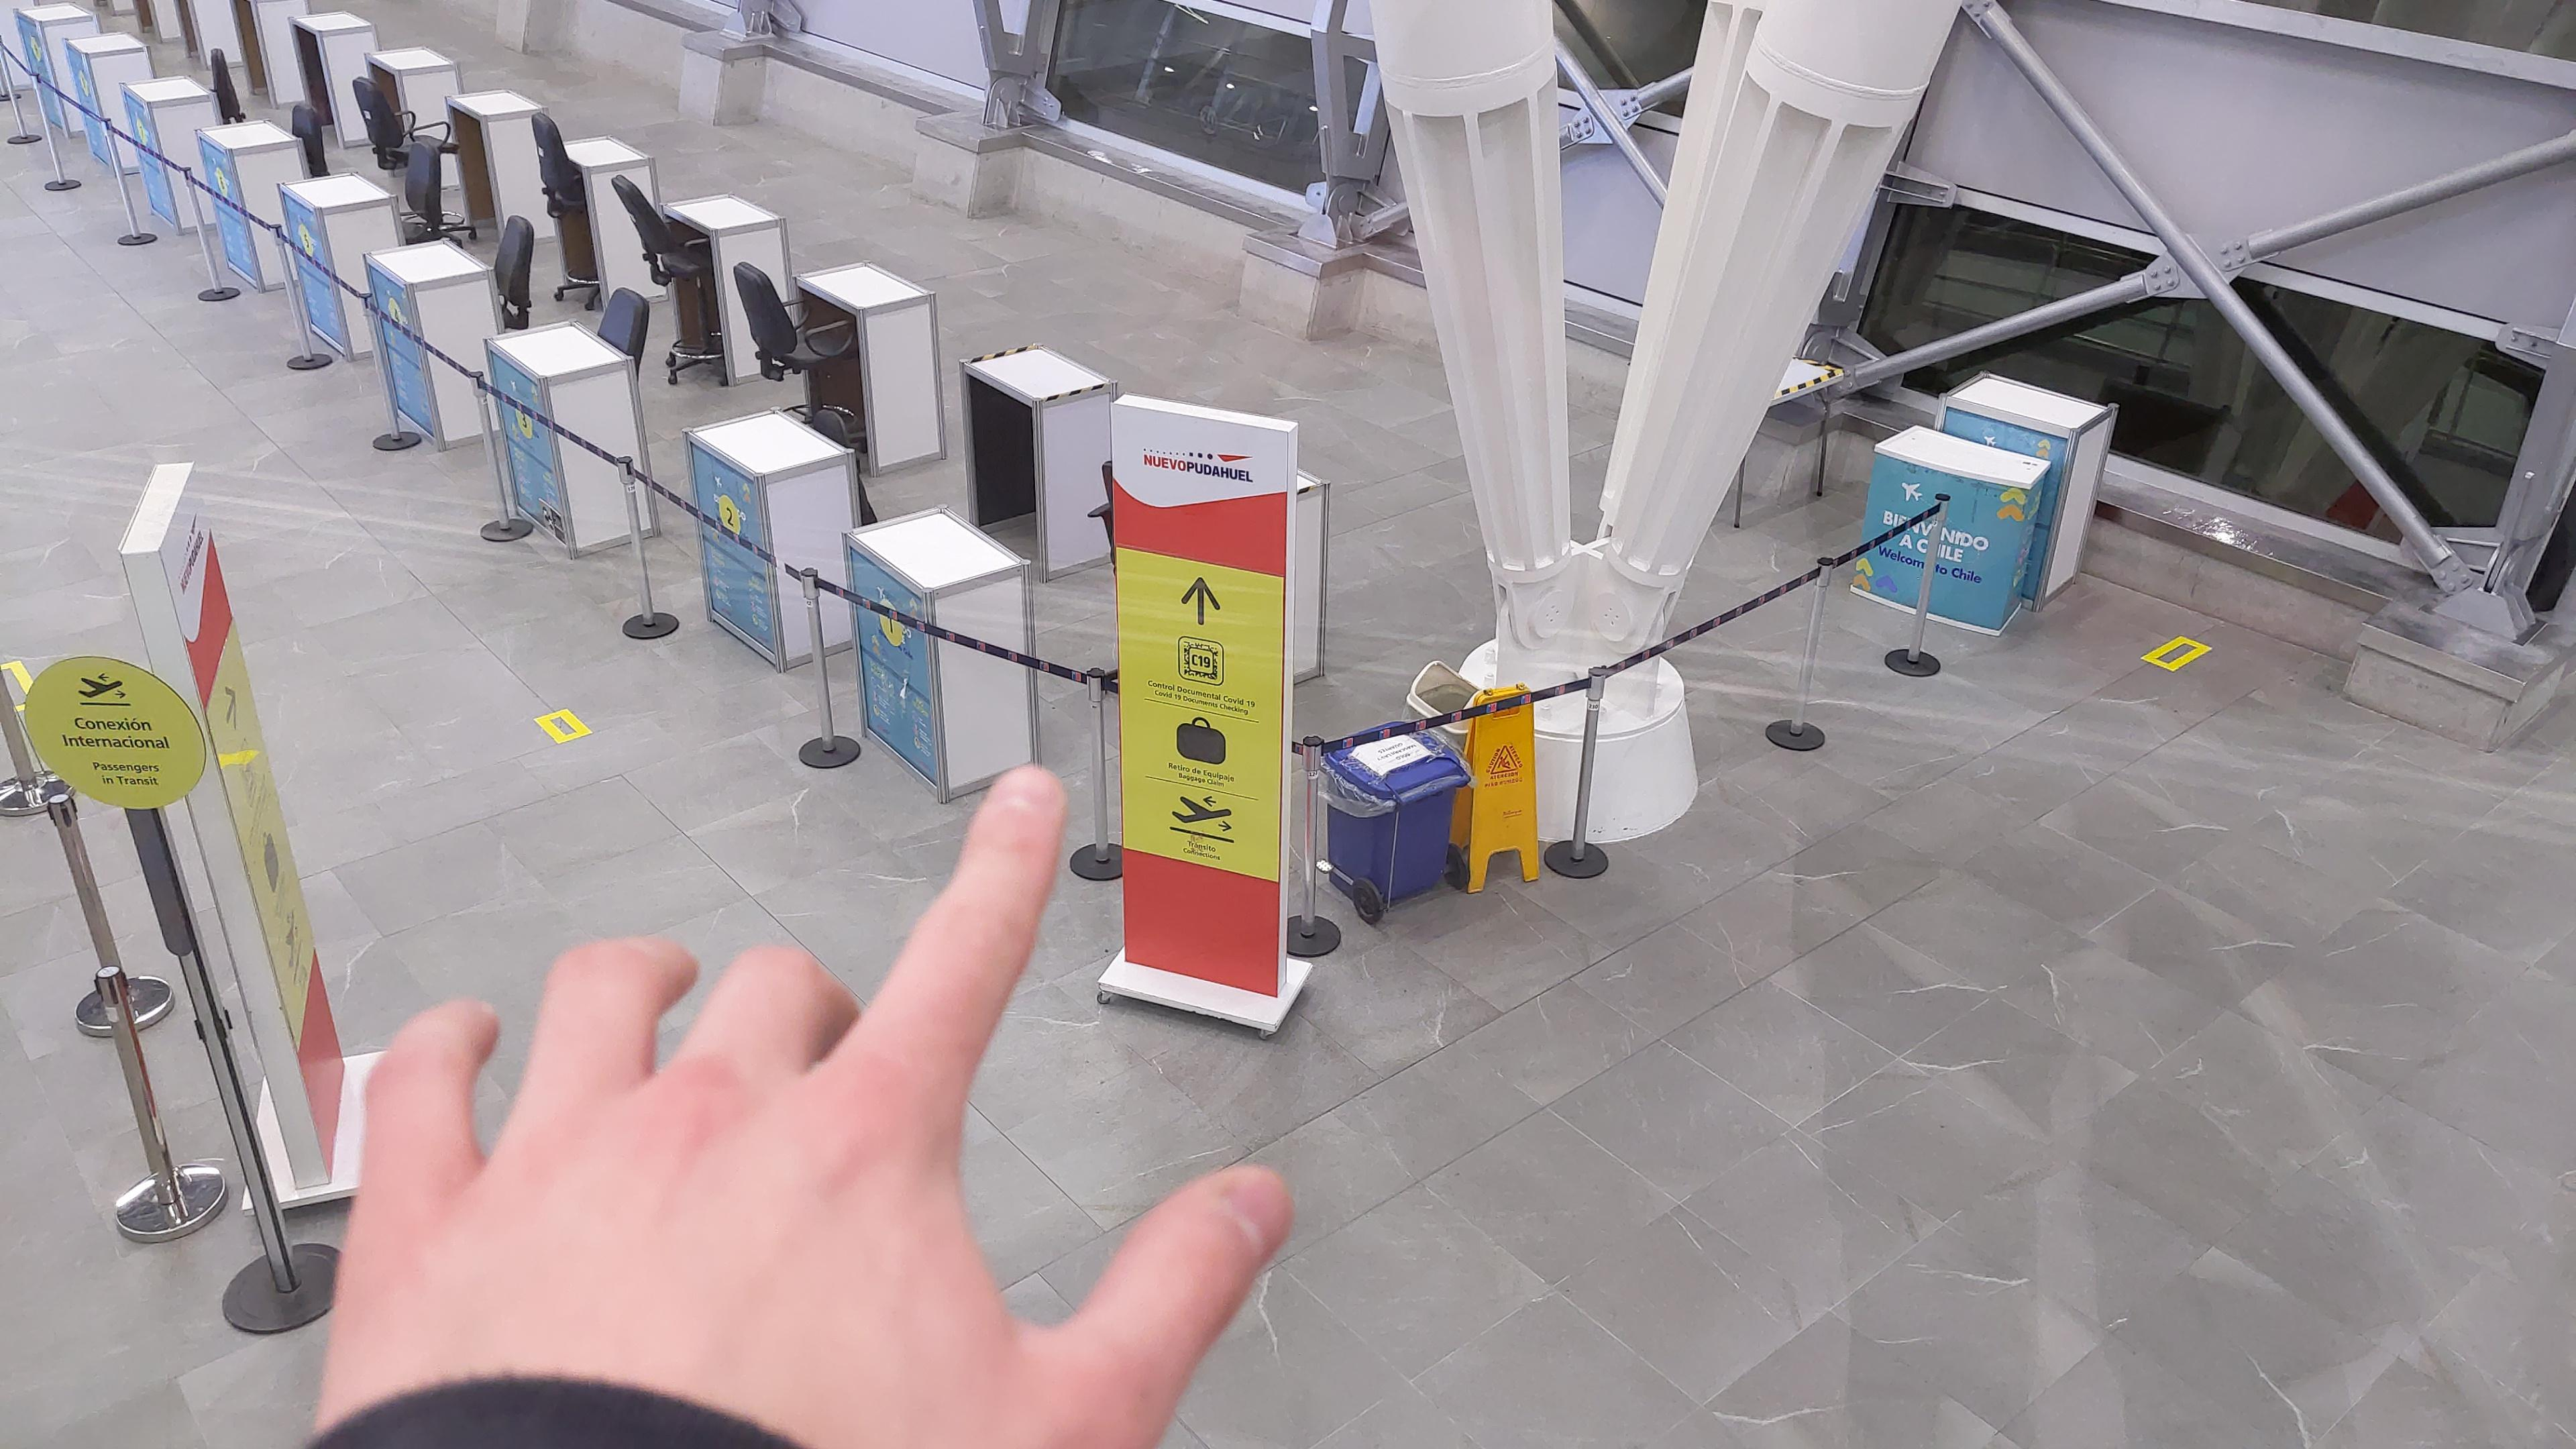airplane symbol: (1166, 791, 1235, 835), (74, 672, 131, 702)
baggage claim: (1175, 713, 1230, 768)
thin up arrow: (1180, 575, 1226, 630)
